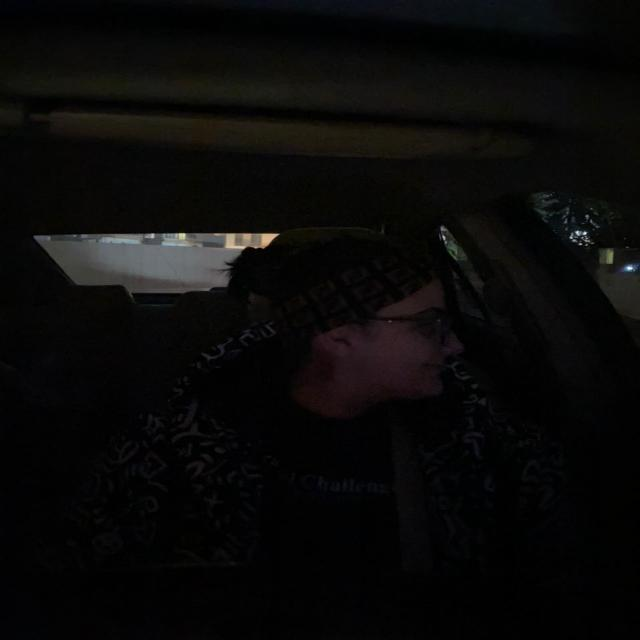LeftRight: (232, 232, 466, 409)
